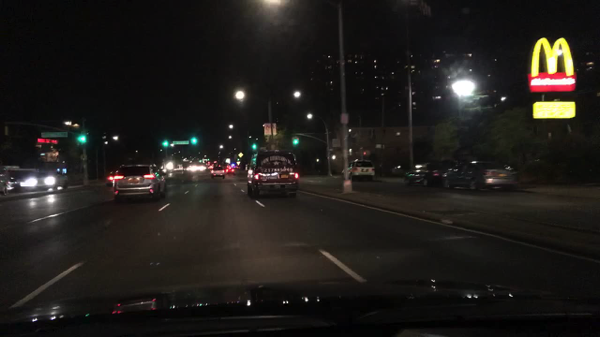car: (441, 159, 519, 193), (247, 151, 297, 198), (112, 164, 166, 201), (403, 161, 452, 188), (22, 172, 70, 192), (3, 167, 36, 192), (342, 160, 377, 180), (0, 166, 10, 195), (211, 165, 225, 178), (108, 169, 120, 184), (191, 162, 203, 173), (223, 164, 234, 175)
traffic light: (78, 131, 85, 142), (162, 136, 168, 148), (191, 135, 197, 146), (361, 150, 369, 157), (251, 142, 257, 151), (330, 154, 336, 161), (293, 137, 298, 145)
traffic sign: (41, 132, 69, 138), (264, 123, 275, 135), (340, 111, 348, 125), (331, 139, 339, 148), (172, 141, 189, 145), (374, 145, 382, 149), (235, 161, 241, 166), (238, 152, 242, 158)
